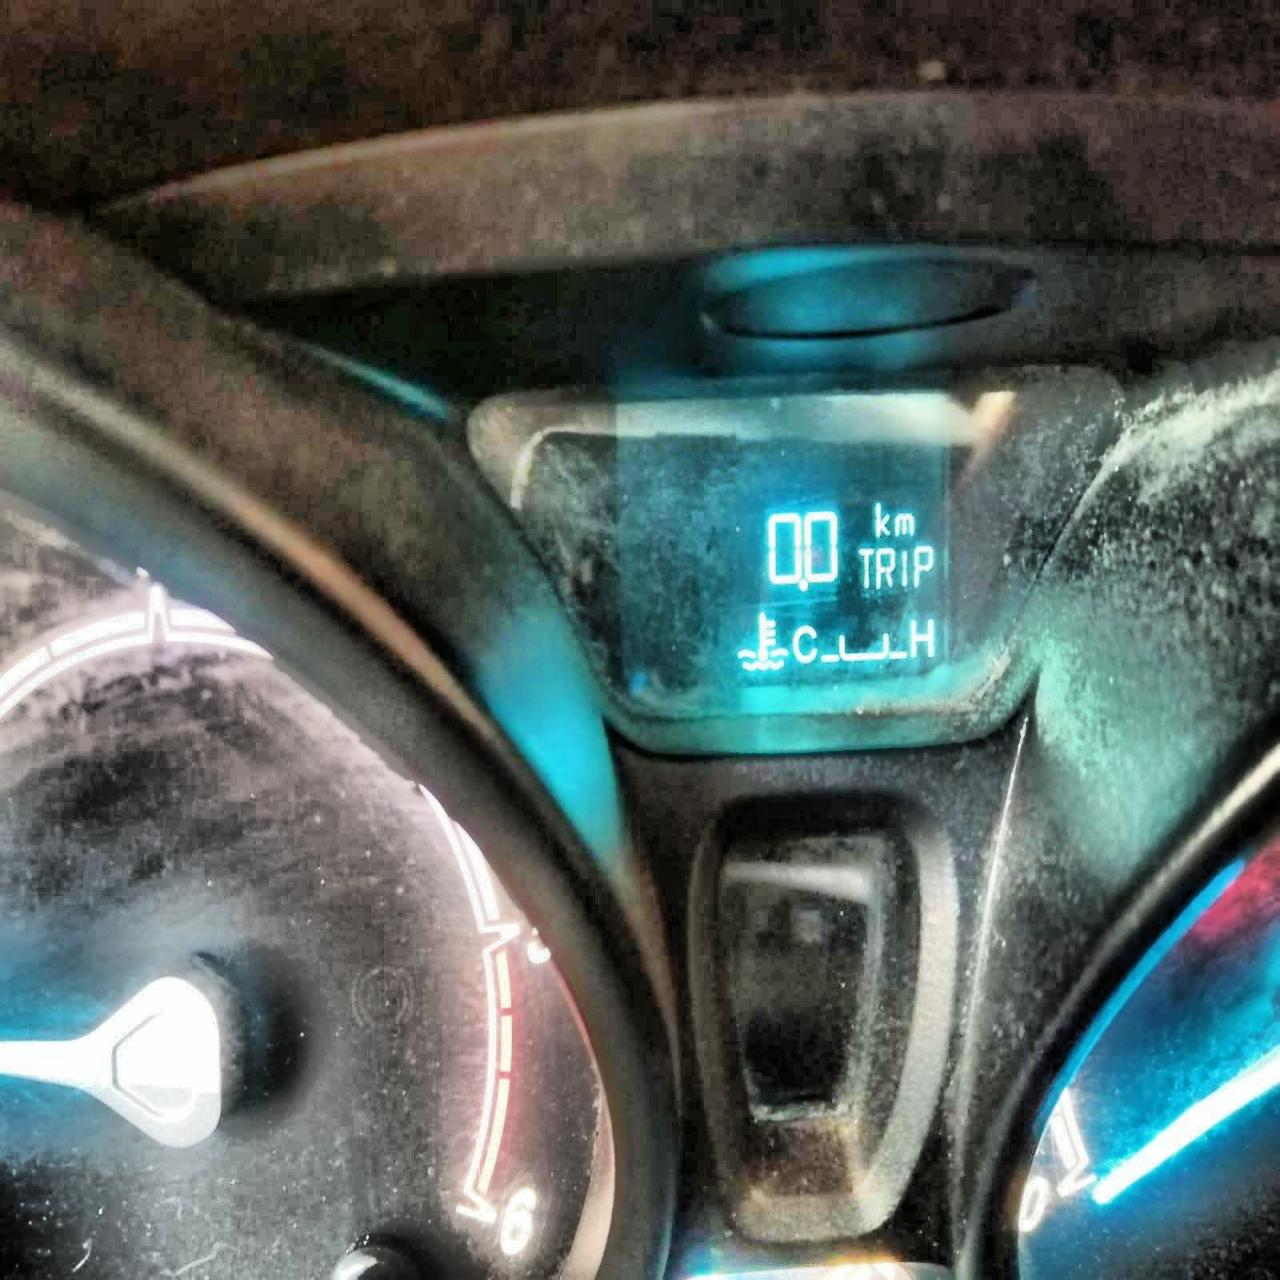-: (797, 576, 808, 592)
0: (803, 509, 838, 583), (767, 511, 802, 584)
X: (907, 618, 934, 659), (791, 622, 818, 663), (874, 546, 897, 590), (912, 545, 934, 588), (873, 501, 891, 539), (858, 546, 873, 588), (893, 511, 914, 536), (900, 549, 908, 587)
odometer: (613, 418, 964, 706)
